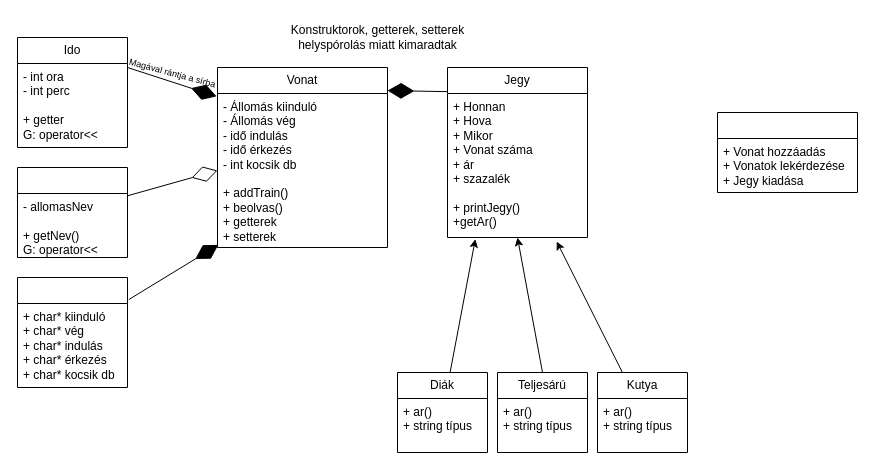
Image size: 875x472. Some labels were removed from this diagram. The shapes that lost their labels are listed below. From the top down, each one's box as (x1, y1, x2, y2) in pixels, then its label:
(716, 112, 858, 192): Kiosk
(16, 166, 128, 258): Állomás
(16, 276, 128, 388): Segéd
